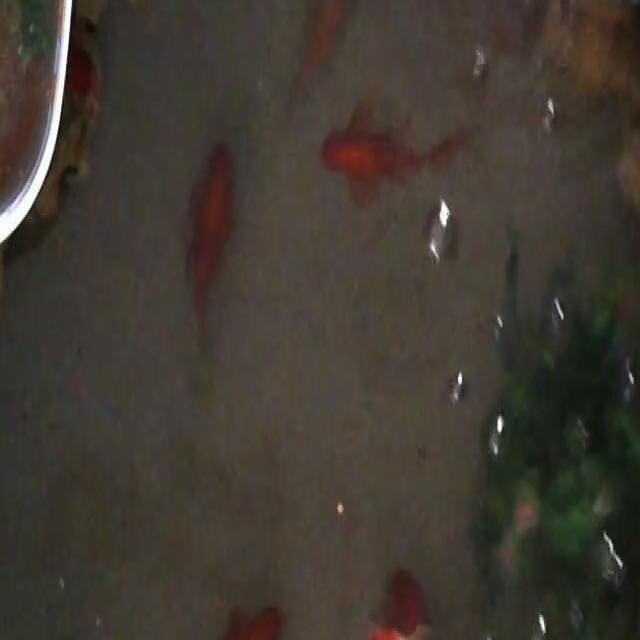fish: (321, 108, 471, 192), (184, 139, 238, 338), (287, 0, 348, 119), (131, 601, 284, 640)
